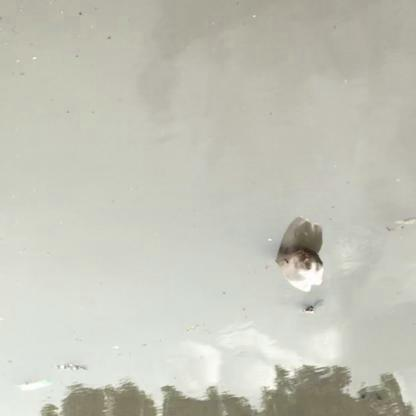Plastic: (274, 246, 330, 292)
